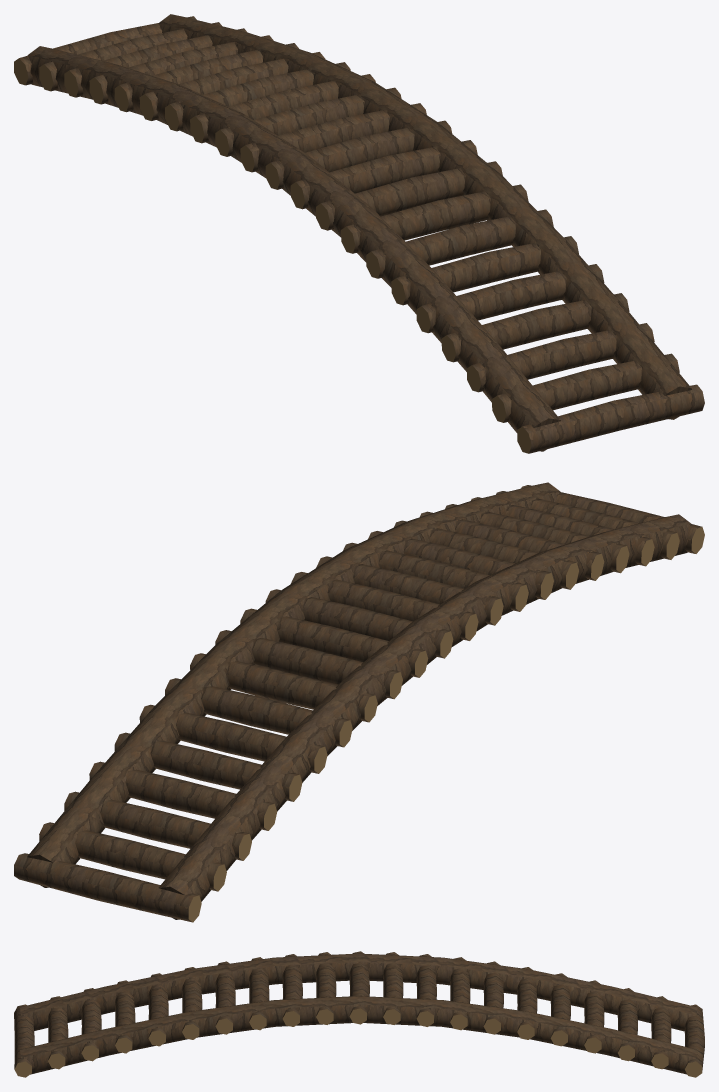
The model's file is source_4.glb.
3 views of the same model, one above another, from view 1: azimuth 30°, elevation 25°; view 2: azimuth 150°, elevation 25°; view 3: azimuth 270°, elevation 25° (orthographic). The views are drawn at different scales.
Parts seen in each view (by area): view 1: Root arch runner; view 2: Root arch runner; view 3: Root arch runner.
Boxes of the visible parts, x1,y1,x2,y2 form: Root arch runner: (14,14,704,453); Root arch runner: (14,482,704,922); Root arch runner: (14,951,704,1077).
Size of the model in its own units: 3.21 by 2.07 by 16.5.
2 materials, 1 textured.
